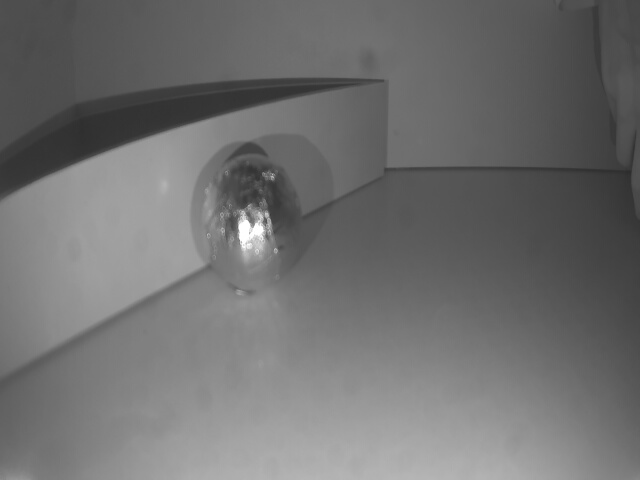Live: (195, 155, 308, 293)
Red: (0, 78, 391, 389)
